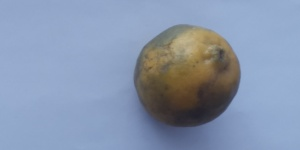BAD: (134, 24, 241, 129)
